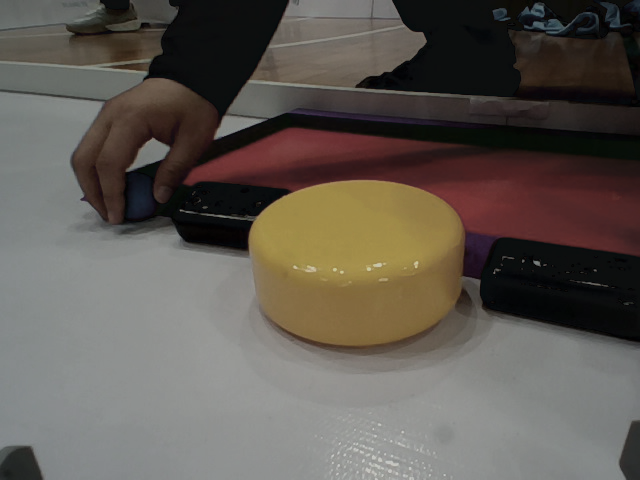black: (478, 238, 640, 343), (172, 180, 293, 243)
blue: (110, 180, 160, 229)
kuang: (106, 106, 640, 306)
yellow: (245, 182, 468, 346)
